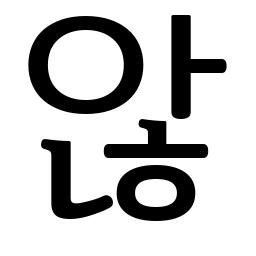Gaji: (159, 41, 206, 91)
